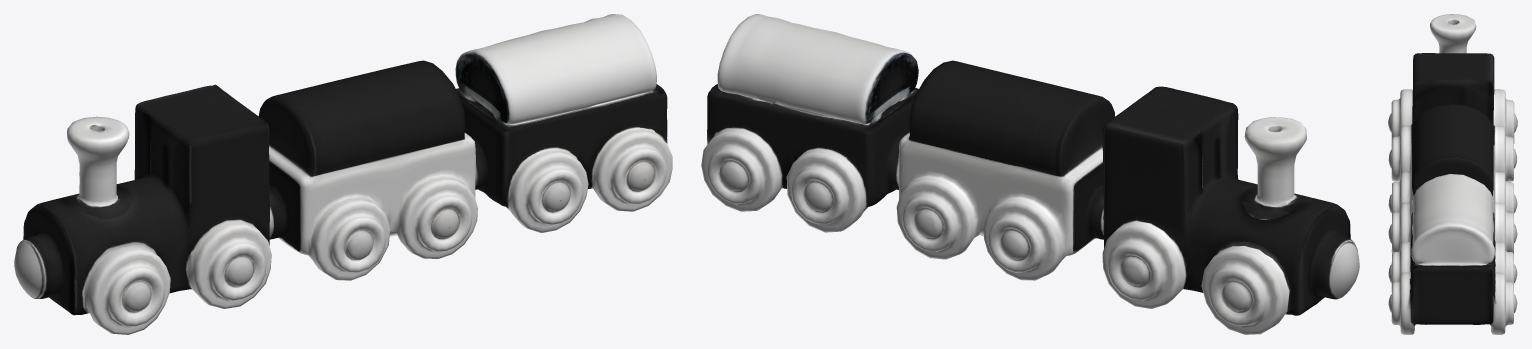
Rendered from BlackWhiteTrain.fbx.
3 renders of one model, left to right at view 1: azimuth 30°, elevation 25°; view 2: azimuth 150°, elevation 25°; view 3: azimuth 270°, elevation 25°, orthographic. The views are drawn at different scales.
Visible parts, largest first — view 1: TrainHead, TrainSecond, TrainThrid; view 2: TrainHead, TrainSecond, TrainThrid; view 3: TrainThrid, TrainHead, TrainSecond.
Part boxes in pixels (<box>): TrainHead: <box>14,84,271,334</box>; TrainSecond: <box>258,60,477,280</box>; TrainThrid: <box>455,14,672,232</box>; TrainHead: <box>1102,86,1359,334</box>; TrainSecond: <box>896,60,1114,280</box>; TrainThrid: <box>701,14,918,232</box>; TrainThrid: <box>1388,174,1517,334</box>; TrainHead: <box>1388,14,1517,181</box>; TrainSecond: <box>1388,104,1517,253</box>.
Bounding box in the file's own units: 97.96 × 27.23 × 24.33.
Materials: 1 (1 with a texture image).
